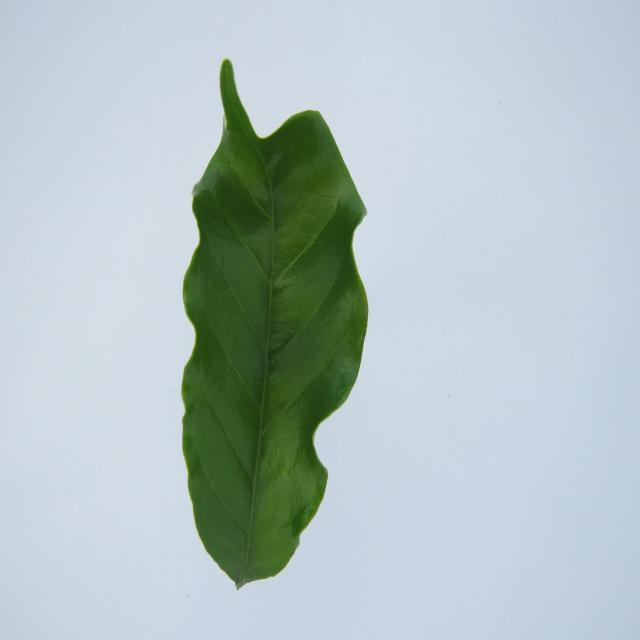DeficienciaNutricional-Calcio: (181, 60, 368, 588)
